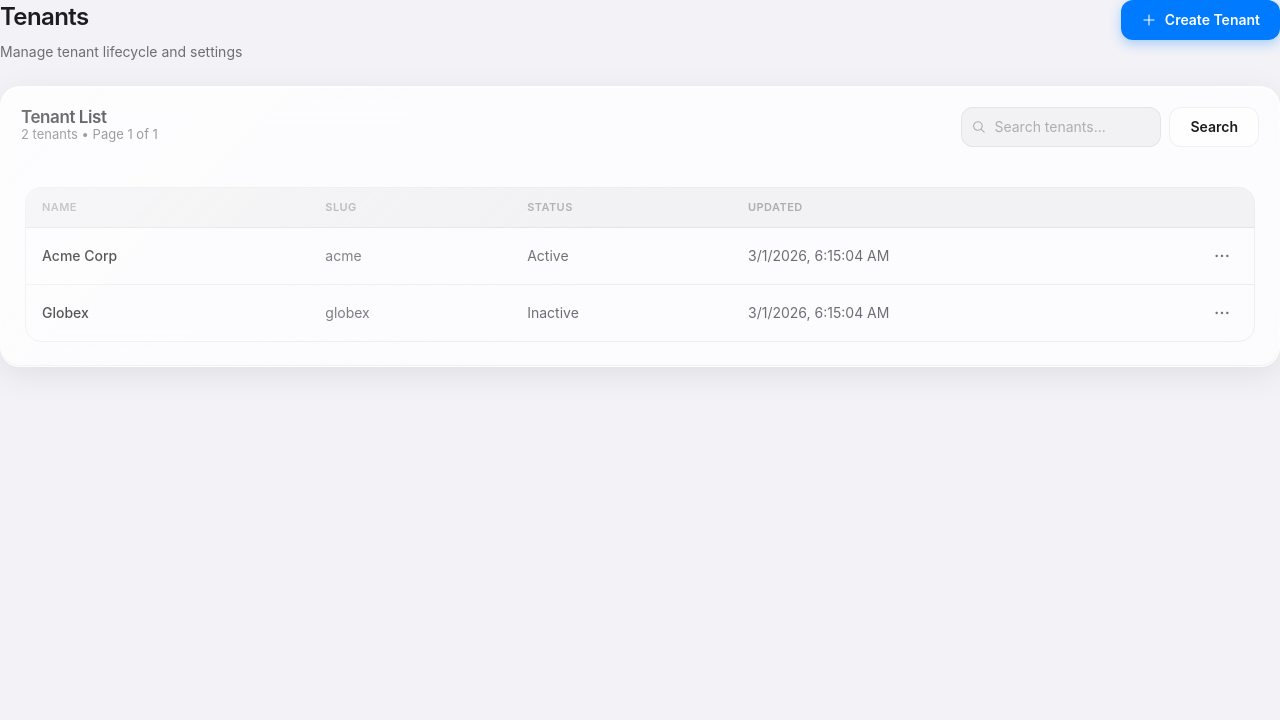
Test case: Tenants Page › closes create dialog on successful action (useEffect)
The width and height of the screenshot is (1280, 720).
Open create dialog
Click the button "Create Tenant": (1200, 20) [1121,0,1279,40]
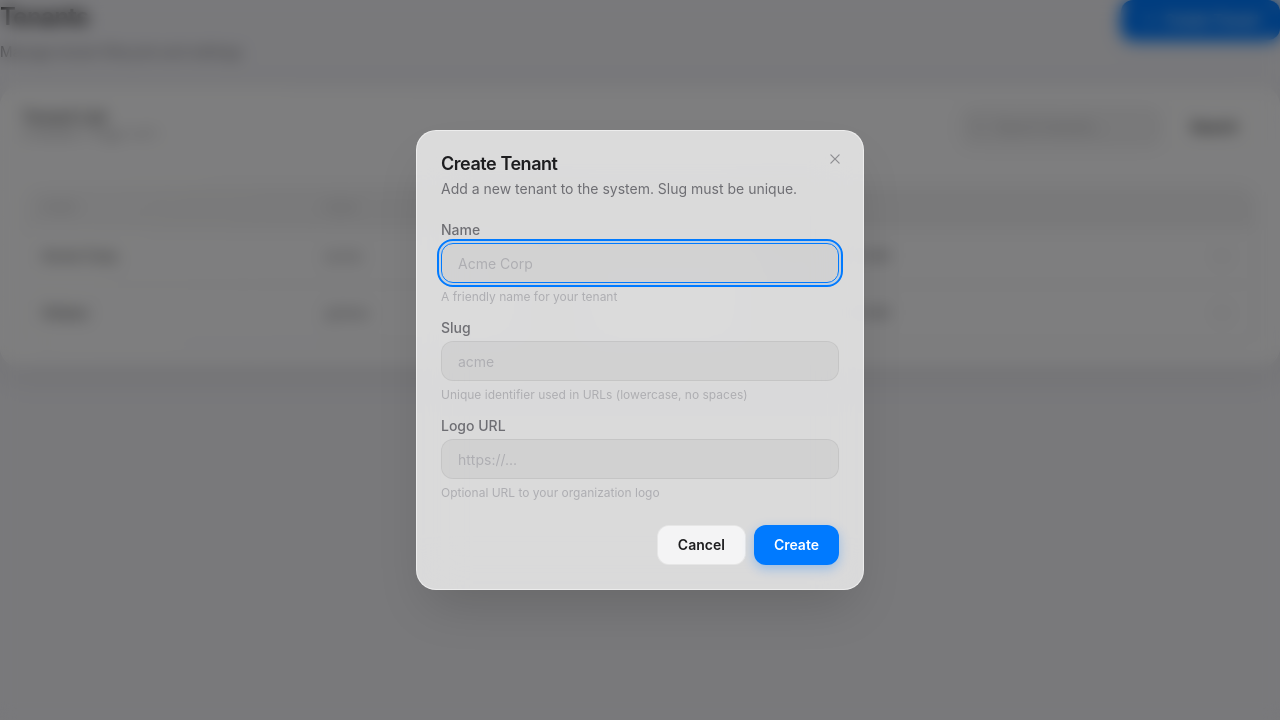
Expected: the dialog is shown, [416,130,864,590]
Fill in form and submit
In the field labelled "Name": (640, 263) [441,243,839,283], type "New Tenant"
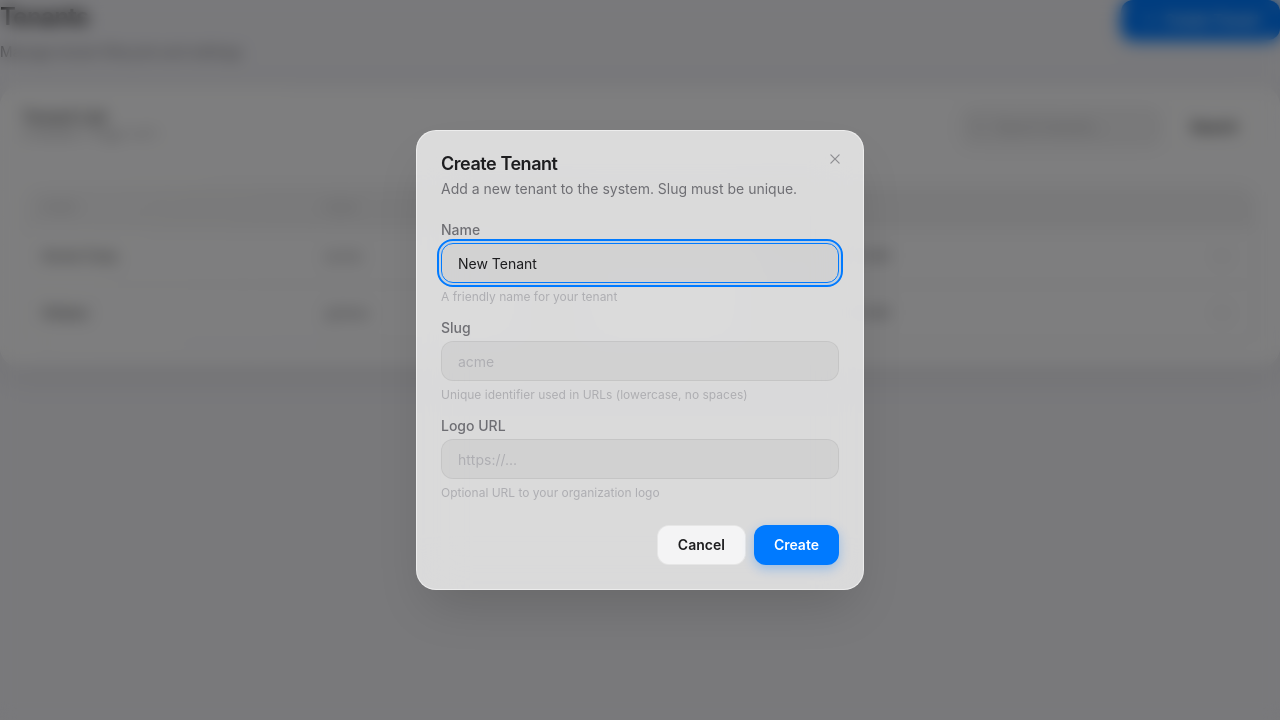
In the field labelled "Slug": (640, 361) [441,341,839,381], type "new-tenant"
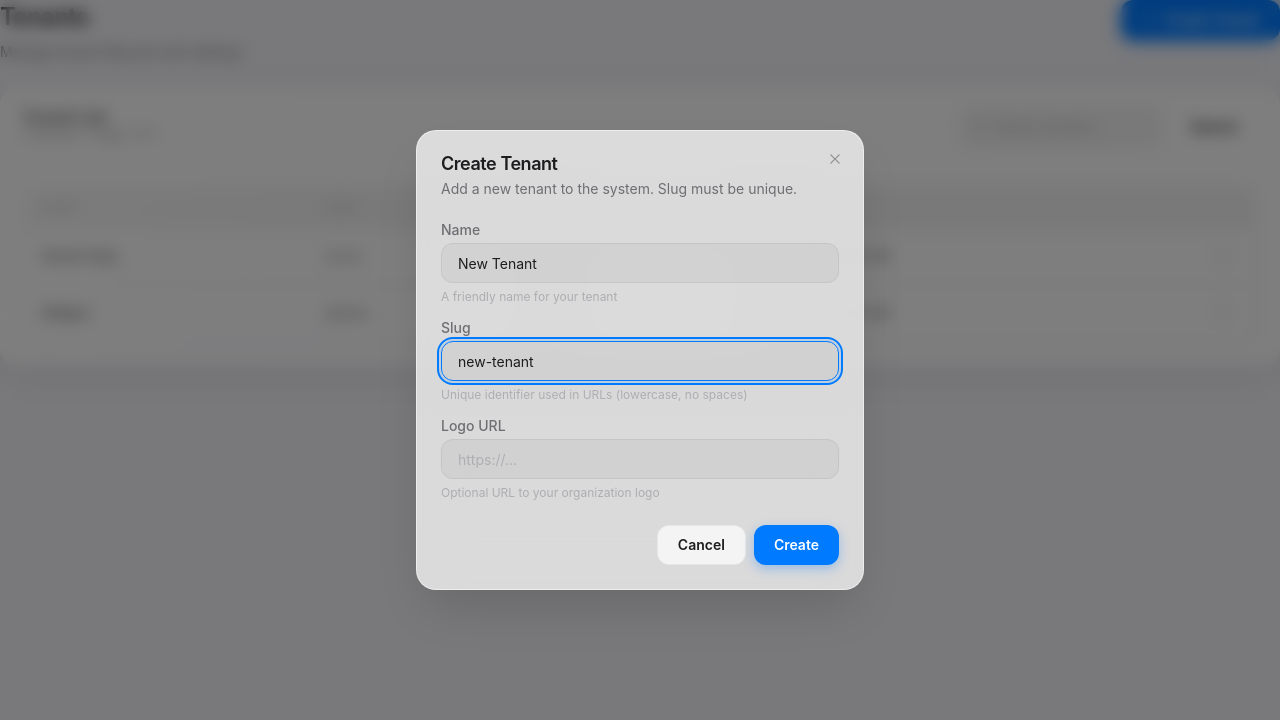
Click the button "Create": (796, 545) [754,525,839,565]
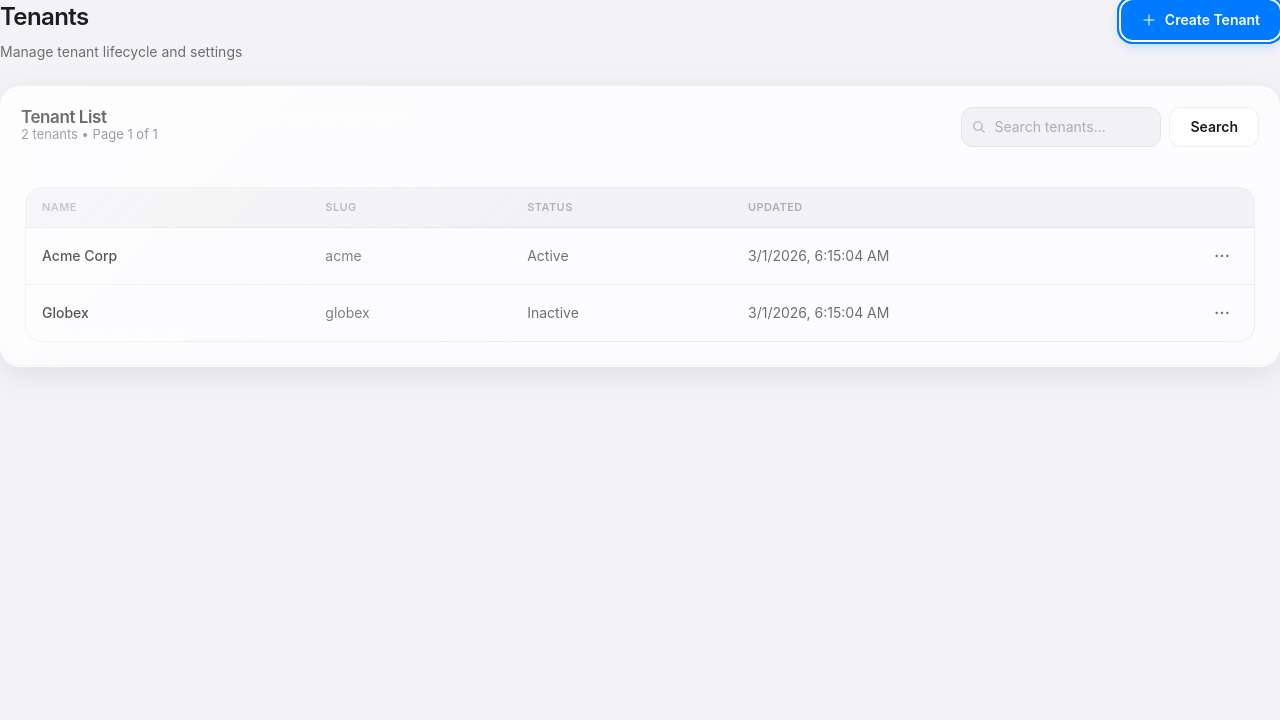
Expected: the dialog is gone
